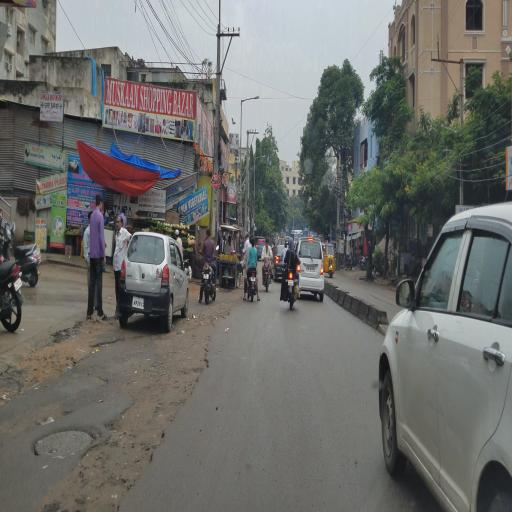street_light_0: (238, 88, 264, 114)
